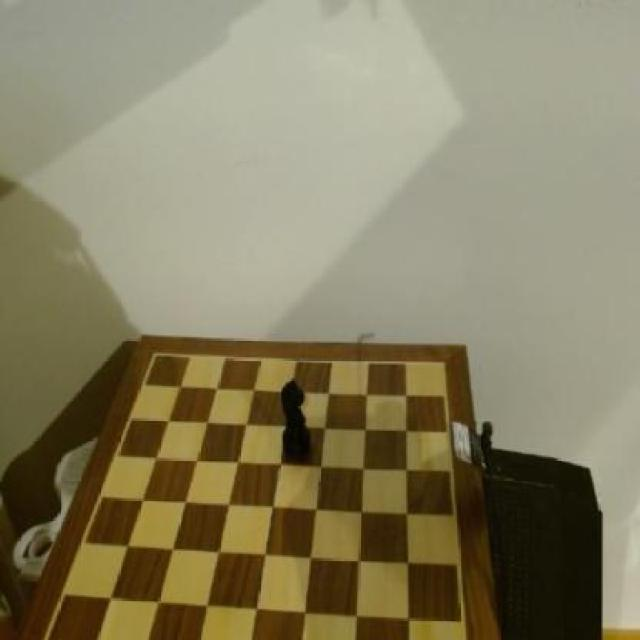black-king: (278, 374, 314, 465)
